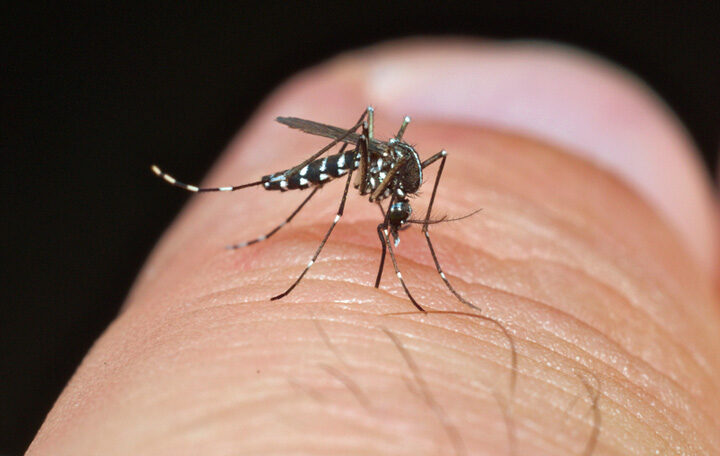dengue_mosquito: (151, 105, 478, 310)
